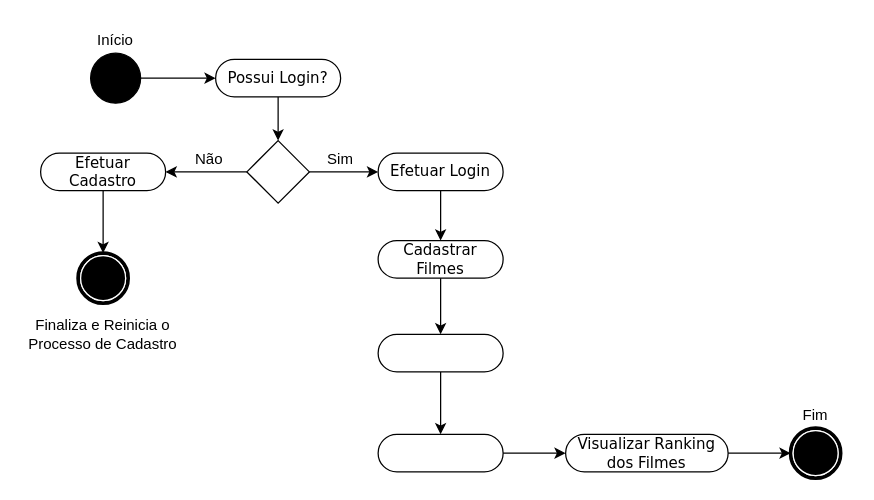
This 874x500 diagram has some shape labels left out. The box of each missing label's shape, as (x1, y1, x2, y2) in pixels:
Avaliar Filmes: (377, 433, 503, 472)
Visualizar Filmes: (377, 333, 503, 372)
